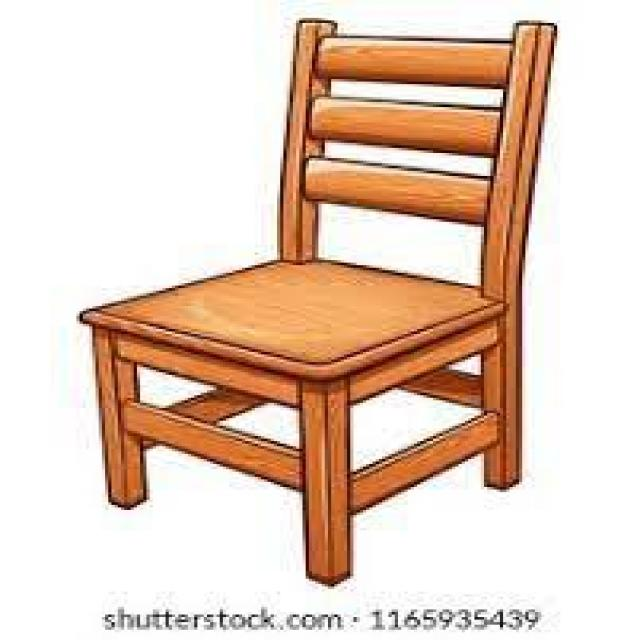chair: (60, 8, 567, 578)
